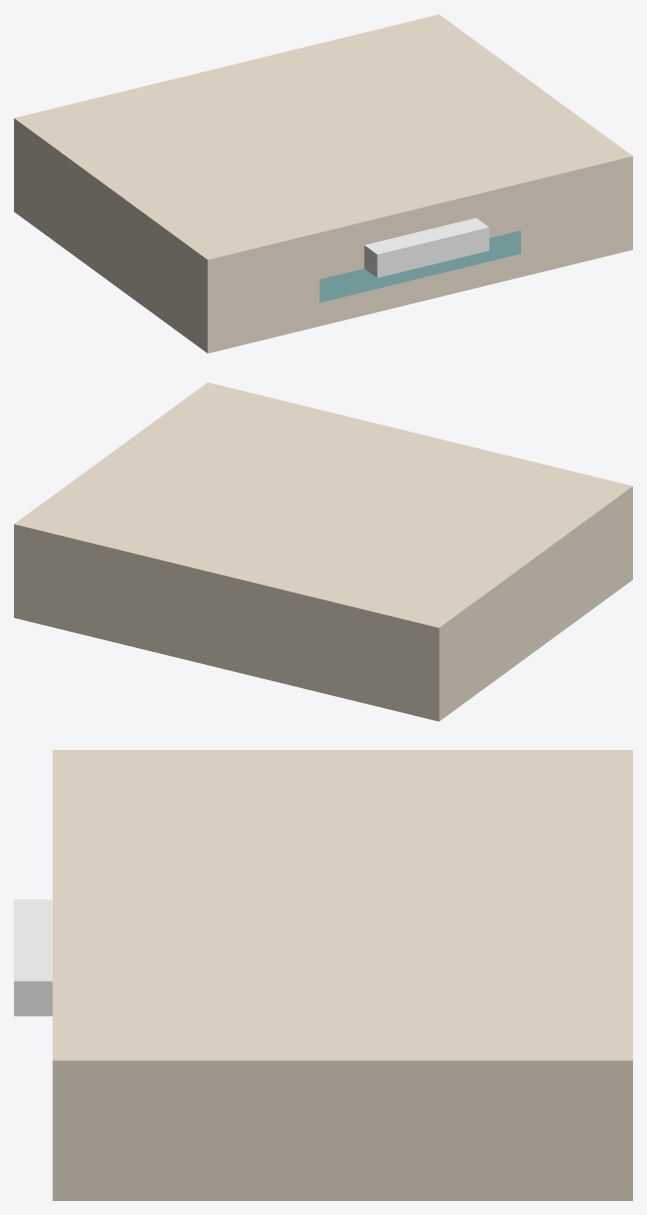
The model's file is supermarket.glb.
3 renders of one model, top to bottom at view 1: azimuth 30°, elevation 25°; view 2: azimuth 150°, elevation 25°; view 3: azimuth 270°, elevation 25°, orthographic. The views are drawn at different scales.
Visible parts, largest first — view 1: supermarket_wall_cream, supermarket_white, supermarket_glass; view 2: supermarket_wall_cream; view 3: supermarket_wall_cream, supermarket_white.
Part boxes in pixels (x1,y1,x2,y2): supermarket_wall_cream: [14, 14, 632, 353]; supermarket_white: [364, 218, 489, 277]; supermarket_glass: [319, 230, 520, 302]; supermarket_wall_cream: [14, 382, 632, 721]; supermarket_wall_cream: [52, 750, 632, 1200]; supermarket_white: [14, 899, 52, 1016].
Bounding box in the file's own units: 42.56 × 8.96 × 35.84.
